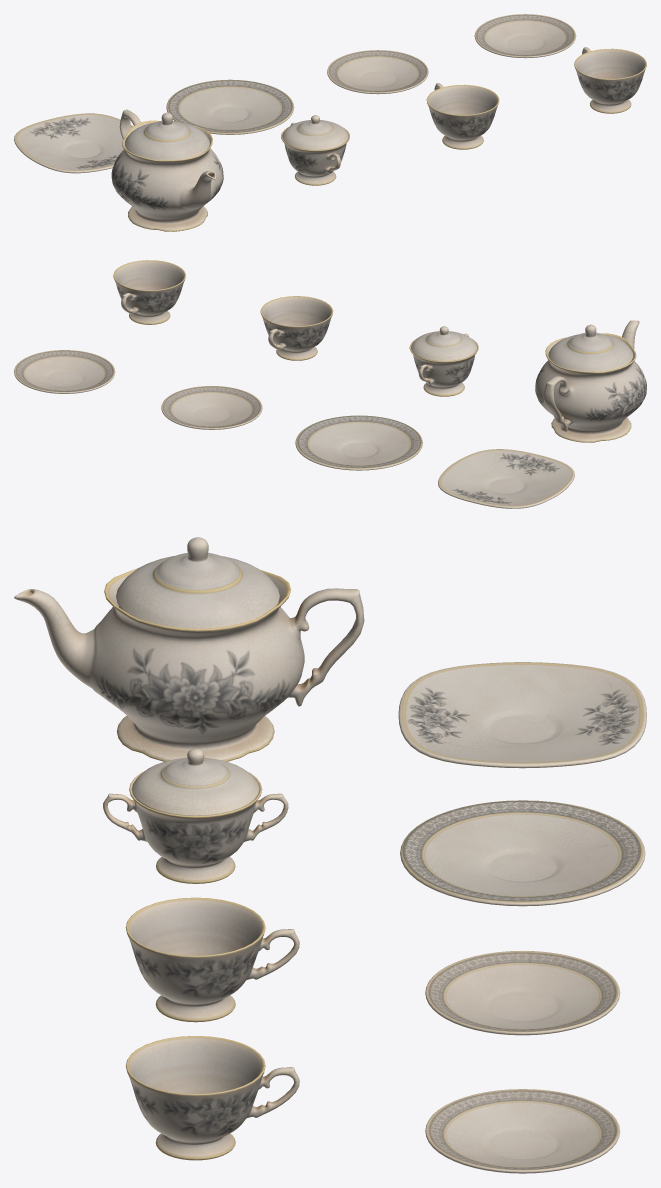
File: tea_set_01.gltf
3 views of the same model, one above another, from view 1: azimuth 30°, elevation 25°; view 2: azimuth 150°, elevation 25°; view 3: azimuth 270°, elevation 25° (orthographic). The views are drawn at different scales.
Visible parts, largest first — view 1: tea_set_01_teapot_01, tea_set_01_plate_large_circular_03, tea_set_01_plate_large_square_01, tea_set_01_cup_small_01, tea_set_01_cup_small_02, tea_set_01_saucer_circular_03, tea_set_01_saucer_circular_04, tea_set_01_teapot_01_lid, tea_set_01_sugar_cup_01, tea_set_01_sugar_cup_01_lid; view 2: tea_set_01_teapot_01, tea_set_01_plate_large_square_01, tea_set_01_plate_large_circular_03, tea_set_01_cup_small_01, tea_set_01_cup_small_02, tea_set_01_saucer_circular_04, tea_set_01_saucer_circular_03, tea_set_01_teapot_01_lid, tea_set_01_sugar_cup_01, tea_set_01_sugar_cup_01_lid; view 3: tea_set_01_teapot_01, tea_set_01_plate_large_square_01, tea_set_01_plate_large_circular_03, tea_set_01_cup_small_01, tea_set_01_cup_small_02, tea_set_01_saucer_circular_03, tea_set_01_saucer_circular_04, tea_set_01_teapot_01_lid, tea_set_01_sugar_cup_01, tea_set_01_sugar_cup_01_lid.
Boxes of the visible parts, x1,y1,x2,y2 form: tea_set_01_teapot_01: (111, 109, 223, 231); tea_set_01_plate_large_circular_03: (166, 79, 294, 134); tea_set_01_plate_large_square_01: (14, 113, 133, 173); tea_set_01_cup_small_01: (426, 83, 499, 149); tea_set_01_cup_small_02: (574, 47, 646, 113); tea_set_01_saucer_circular_03: (474, 14, 576, 58); tea_set_01_saucer_circular_04: (327, 50, 428, 94); tea_set_01_teapot_01_lid: (125, 112, 209, 160); tea_set_01_sugar_cup_01: (281, 122, 349, 185); tea_set_01_sugar_cup_01_lid: (282, 115, 348, 150); tea_set_01_teapot_01: (535, 320, 646, 442); tea_set_01_plate_large_square_01: (438, 449, 574, 508); tea_set_01_plate_large_circular_03: (295, 415, 422, 470); tea_set_01_cup_small_01: (260, 296, 333, 360); tea_set_01_cup_small_02: (113, 260, 185, 324); tea_set_01_saucer_circular_04: (161, 386, 262, 429); tea_set_01_saucer_circular_03: (14, 350, 115, 393); tea_set_01_teapot_01_lid: (548, 324, 633, 371); tea_set_01_sugar_cup_01: (409, 333, 478, 396); tea_set_01_sugar_cup_01_lid: (411, 326, 477, 361); tea_set_01_teapot_01: (14, 568, 364, 761); tea_set_01_plate_large_square_01: (398, 662, 646, 768); tea_set_01_plate_large_circular_03: (400, 800, 645, 906); tea_set_01_cup_small_01: (125, 897, 299, 1022); tea_set_01_cup_small_02: (126, 1036, 299, 1160); tea_set_01_saucer_circular_03: (425, 1089, 620, 1173); tea_set_01_saucer_circular_04: (425, 950, 620, 1035); tea_set_01_teapot_01_lid: (116, 537, 279, 628); tea_set_01_sugar_cup_01: (103, 771, 288, 883); tea_set_01_sugar_cup_01_lid: (131, 748, 259, 815).
Bounding box in the file's own units: 0.9185 × 0.165 × 0.4839.
1 material, 1 textured.
